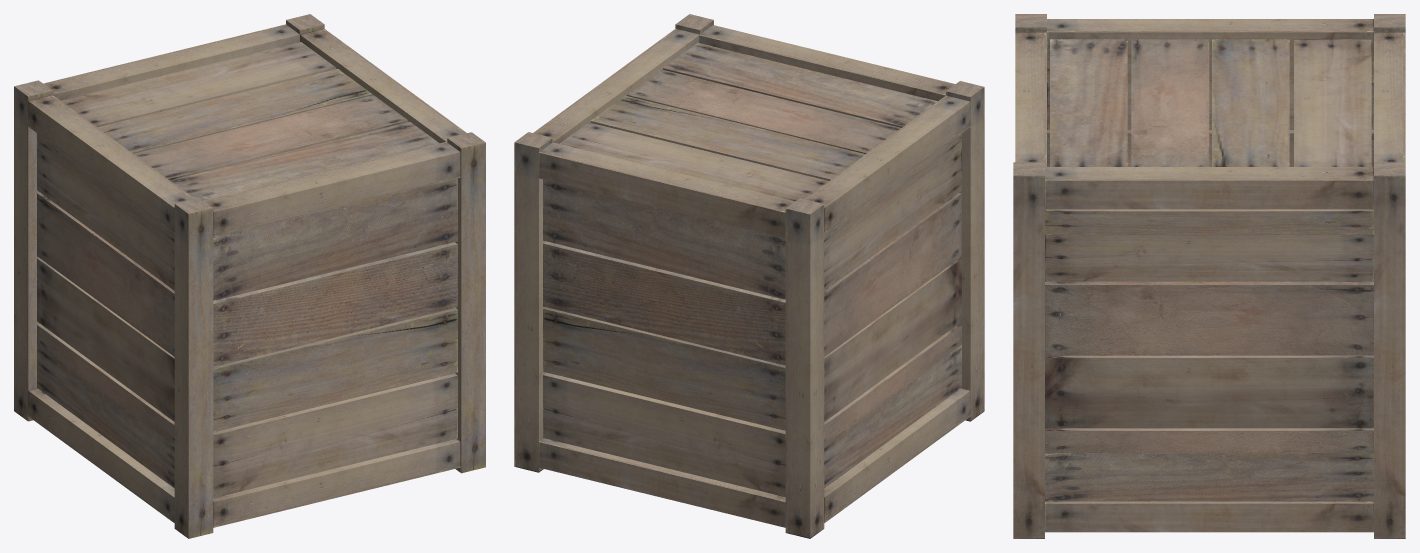
The model's file is Wooden_Crate.fbx.
3 views of the same model, side by side, from view 1: azimuth 30°, elevation 25°; view 2: azimuth 150°, elevation 25°; view 3: azimuth 270°, elevation 25° (orthographic). The views are drawn at different scales.
Parts seen in each view (by area): view 1: Wooden_Crate; view 2: Wooden_Crate; view 3: Wooden_Crate.
Boxes of the visible parts, box(x1,y1,x2,y2) form: Wooden_Crate: box(14, 14, 485, 538); Wooden_Crate: box(514, 14, 984, 538); Wooden_Crate: box(1013, 14, 1405, 538).
Size of the model in its own units: 1.21 by 1.27 by 1.25.
